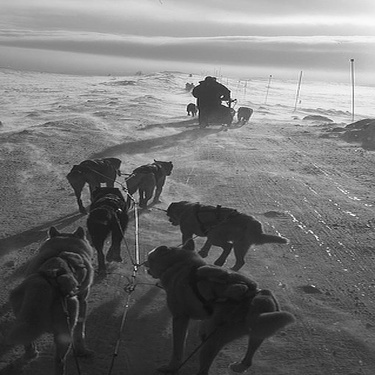dog: (139, 239, 301, 373), (1, 222, 97, 371), (166, 200, 292, 272), (83, 183, 129, 274), (63, 153, 125, 214), (123, 155, 176, 212), (234, 104, 255, 126), (185, 98, 198, 118)
